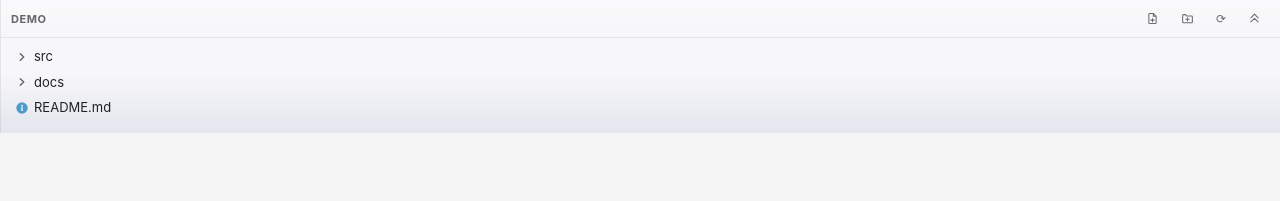
Scenario: DocumentTree › keeps expanded directories open across a manual refresh
The image size is (1280, 201).
Click the button "docs": {"x": 49, "y": 82} [9,70,1272,95]
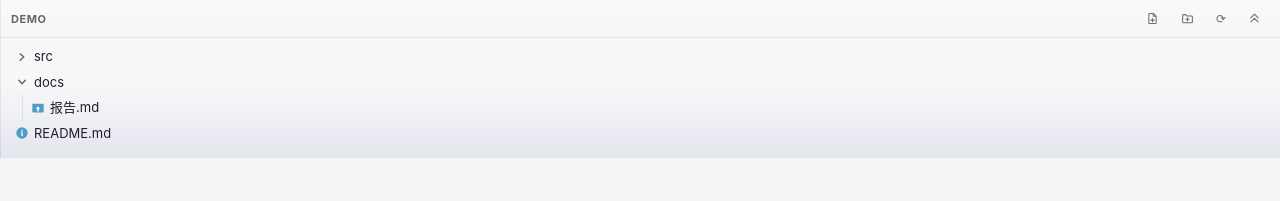
Result: the text "报告.md" is shown at [50,99,99,117]
Click the button named "刷新目录树": {"x": 1221, "y": 18} [1207,7,1235,30]
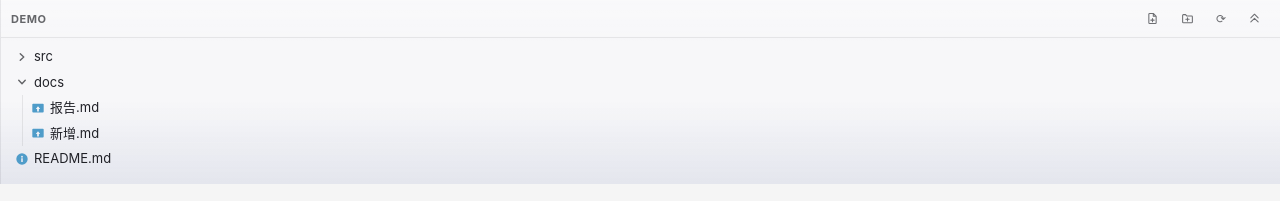
Result: the text "报告.md" is shown at [50,99,99,117]
Result: the text "新增.md" is shown at [50,125,99,142]
